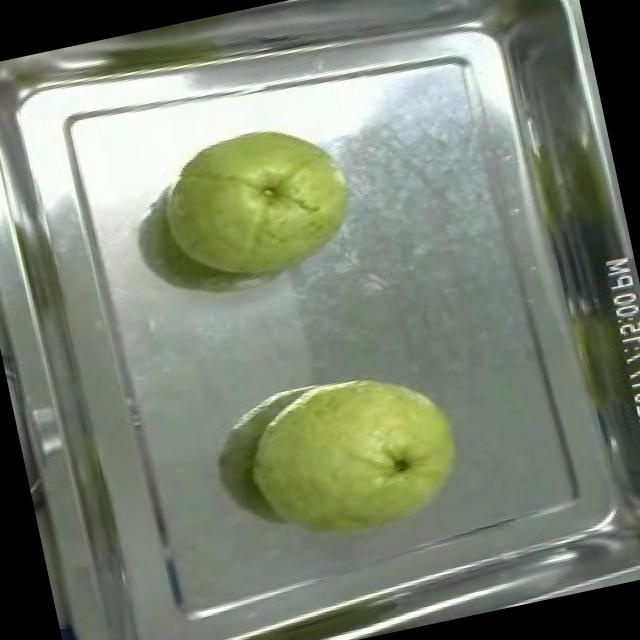Fruit: (224, 346, 483, 574), (141, 104, 371, 304)
